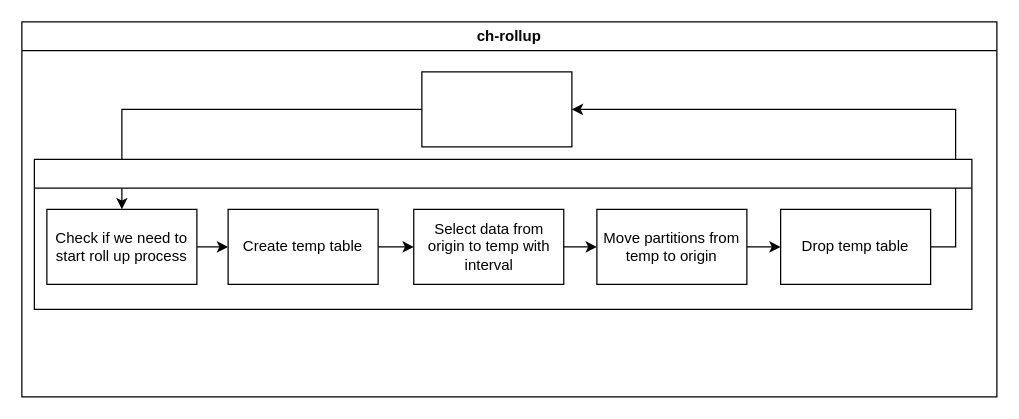
This 1019x419 diagram has some shape labels left out. The shapes that lost their labels are listed below. From the top down, each one's box as (x1, y1, x2, y2) in pixels, then its label:
(421, 71, 572, 147): Scheduler
(33, 158, 972, 309): Per-shard process
